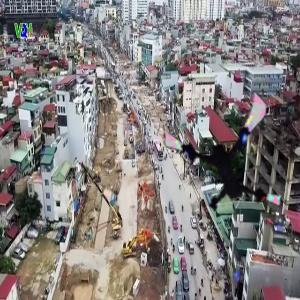drone: (160, 96, 284, 220)
